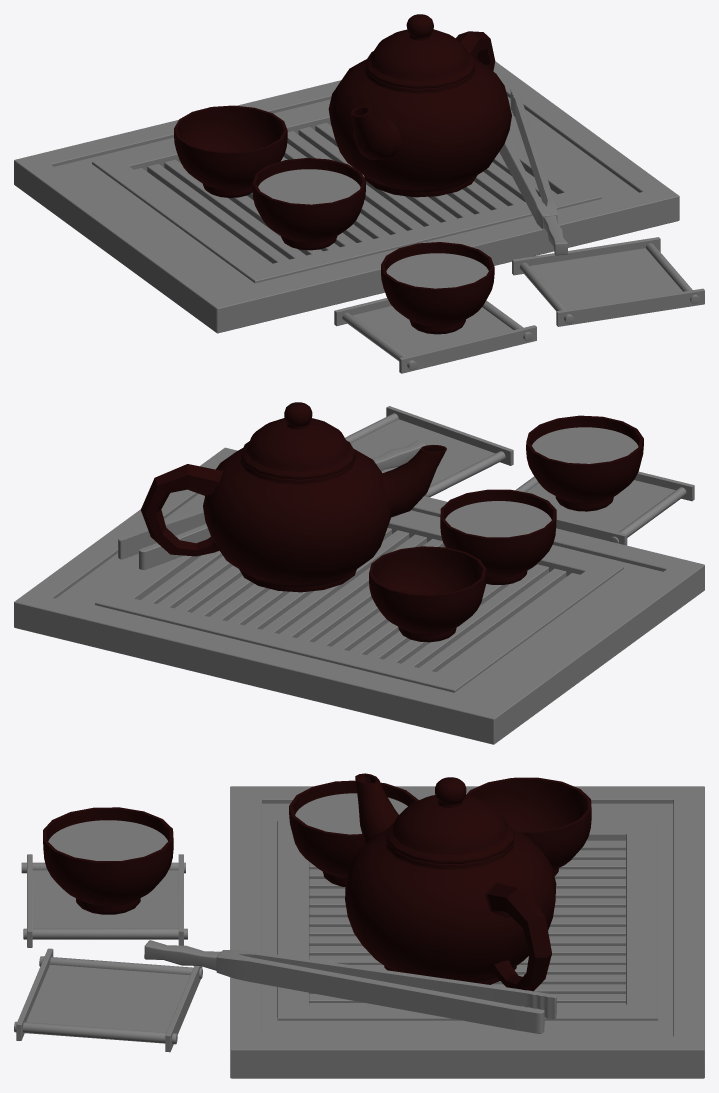
3 renders of one model, top to bottom at view 1: azimuth 30°, elevation 25°; view 2: azimuth 150°, elevation 25°; view 3: azimuth 270°, elevation 25°, orthographic. The views are drawn at different scales.
Visible parts, largest first — view 1: stand (×2), kattle, piano (×2), cup holder (×5), piano003, tongs, cup holder004, Object005, Object004, cup holder006, cup holder005, cup holder003; view 2: stand (×2), kattle, piano (×2), piano003, cup holder (×3), tongs, Object005, Object004, cup holder004, cup holder005, cup holder003, cup holder006; view 3: stand (×2), kattle, tongs, cup holder (×5), piano (×2), piano003, cup holder004, Object004, Object005, cup holder002, cup holder006, cup holder003.
Part boxes in pixels (x1,y1,x2,y2): stand (×2): [14, 61, 679, 333]; kattle: [328, 14, 511, 197]; piano (×2): [252, 158, 494, 334]; cup holder (×5): [512, 237, 704, 326]; piano003: [174, 105, 287, 197]; tongs: [499, 89, 567, 255]; cup holder004: [352, 306, 513, 355]; Object005: [258, 169, 360, 204]; Object004: [386, 253, 488, 288]; cup holder006: [399, 325, 536, 373]; cup holder005: [342, 312, 417, 370]; cup holder003: [334, 298, 391, 326]; stand (×2): [14, 447, 704, 744]; kattle: [141, 402, 446, 592]; piano (×2): [440, 415, 643, 584]; piano003: [369, 546, 486, 642]; cup holder (×3): [350, 406, 513, 497]; tongs: [118, 440, 425, 569]; Object005: [445, 501, 551, 537]; Object004: [532, 427, 638, 463]; cup holder004: [526, 480, 675, 532]; cup holder005: [610, 487, 686, 543]; cup holder003: [556, 517, 627, 545]; cup holder006: [634, 471, 694, 501]; stand (×2): [230, 786, 704, 1078]; kattle: [345, 773, 556, 991]; tongs: [144, 940, 556, 1033]; cup holder (×5): [14, 948, 202, 1052]; piano (×2): [43, 780, 418, 914]; piano003: [466, 777, 591, 875]; cup holder004: [32, 870, 178, 928]; Object004: [48, 820, 167, 860]; Object005: [295, 793, 407, 834]; cup holder002: [23, 928, 187, 939]; cup holder006: [27, 854, 32, 947]; cup holder003: [178, 854, 183, 945].
Size of the model in its own units: 394 by 143 by 437.
